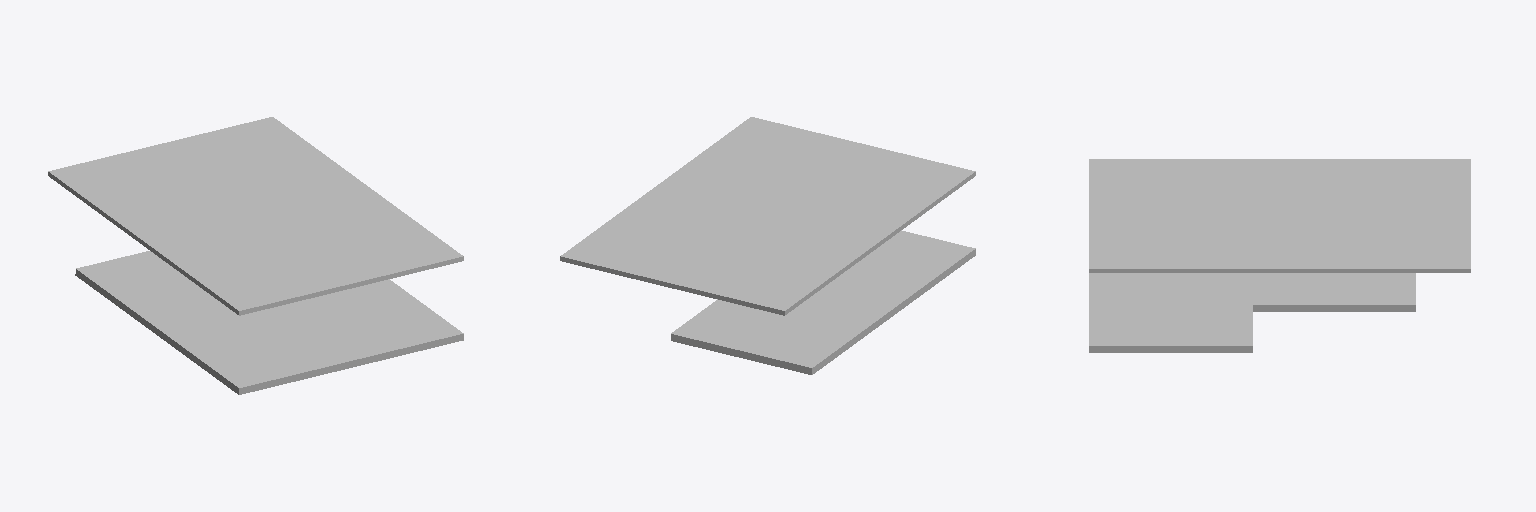
The model's file is CP_PisoInt.obj.
3 views of the same model, side by side, from view 1: azimuth 30°, elevation 25°; view 2: azimuth 150°, elevation 25°; view 3: azimuth 270°, elevation 25° (orthographic).
Parts seen in each view (by area): view 1: Cube.006_Cube.007, Plane.004, Plane.005_Plane.006; view 2: Cube.006_Cube.007, Plane.005_Plane.006, Plane.004; view 3: Cube.006_Cube.007, Plane.004, Plane.005_Plane.006.
Part boxes in pixels (bbox=[...]): Cube.006_Cube.007: bbox=[48, 117, 463, 315]; Plane.004: bbox=[157, 279, 463, 394]; Plane.005_Plane.006: bbox=[75, 251, 230, 334]; Cube.006_Cube.007: bbox=[560, 117, 975, 315]; Plane.005_Plane.006: bbox=[671, 290, 893, 374]; Plane.004: bbox=[821, 230, 975, 314]; Cube.006_Cube.007: bbox=[1089, 159, 1470, 272]; Plane.004: bbox=[1089, 273, 1252, 352]; Plane.005_Plane.006: bbox=[1253, 273, 1415, 311].
Size of the model in its own units: 8.89 by 3.18 by 13.09.